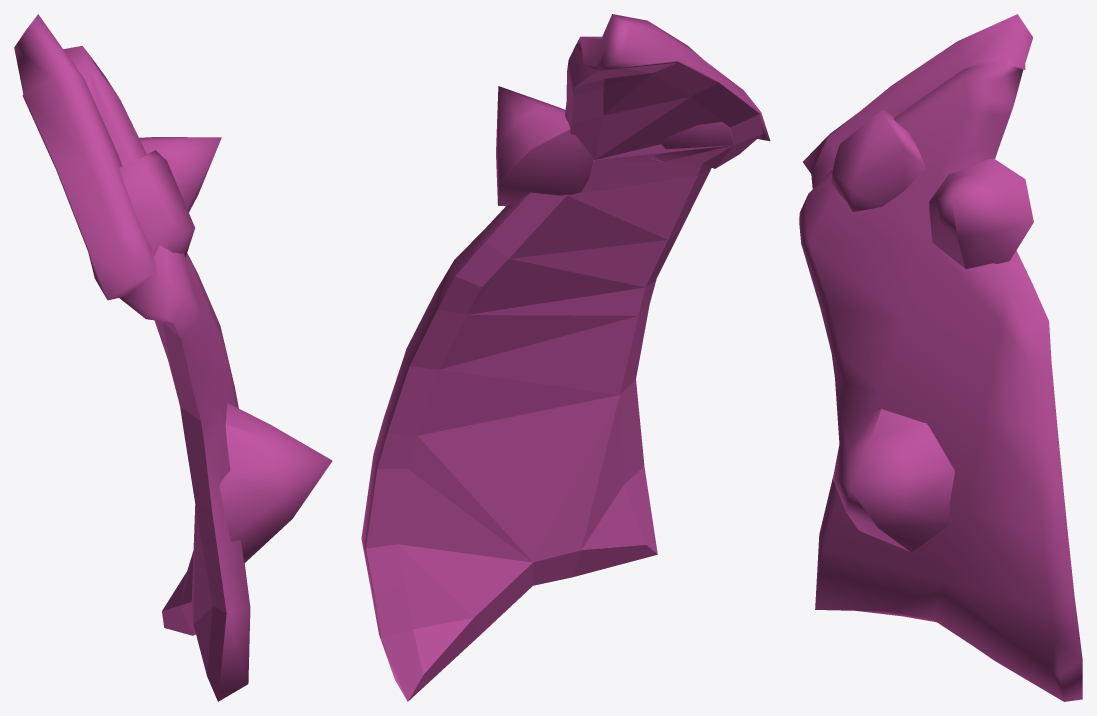
File: eff_meshparticles_coral01_p4.fbx
3 views of the same model, side by side, from view 1: azimuth 30°, elevation 25°; view 2: azimuth 150°, elevation 25°; view 3: azimuth 270°, elevation 25° (orthographic). The views are drawn at different scales.
Parts seen in each view (by area): view 1: p_mesh_hvs_coral_part04; view 2: p_mesh_hvs_coral_part04; view 3: p_mesh_hvs_coral_part04.
Boxes of the visible parts, x1=… form: p_mesh_hvs_coral_part04: x1=14, y1=14, x2=332, y2=701; p_mesh_hvs_coral_part04: x1=361, y1=14, x2=770, y2=701; p_mesh_hvs_coral_part04: x1=799, y1=14, x2=1082, y2=701.
Bounding box in the file's own units: 3 × 7.2 × 3.01.
